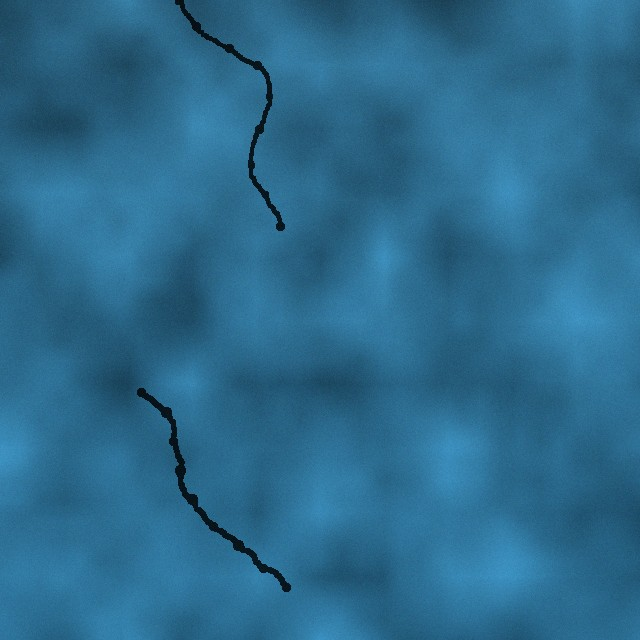crack: (135, 386, 291, 592), (173, 0, 284, 230)
